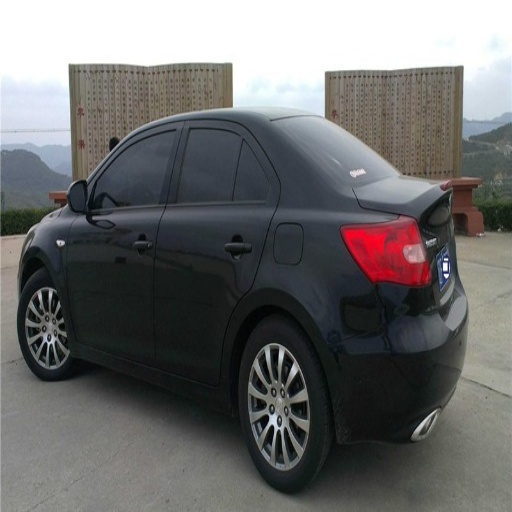back_bumper: (317, 287, 465, 440)
back_glass: (279, 117, 399, 185)
back_left_door: (155, 119, 278, 381)
tailgate: (399, 187, 448, 294)
